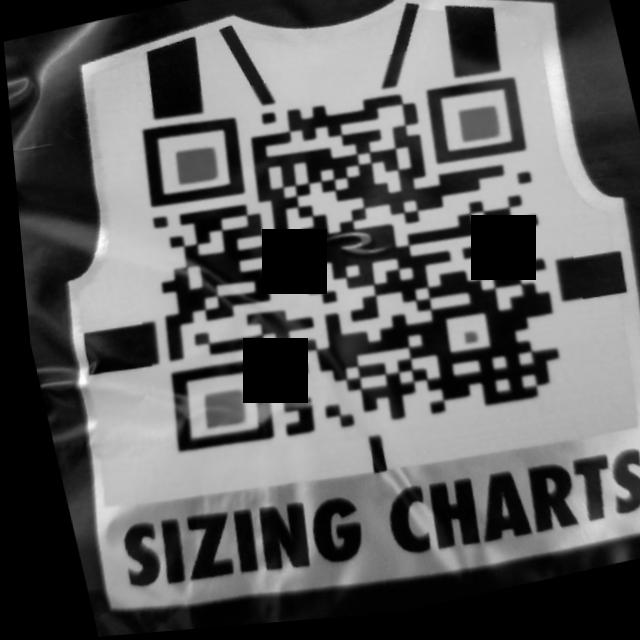QR_CODE: (89, 32, 602, 500)
